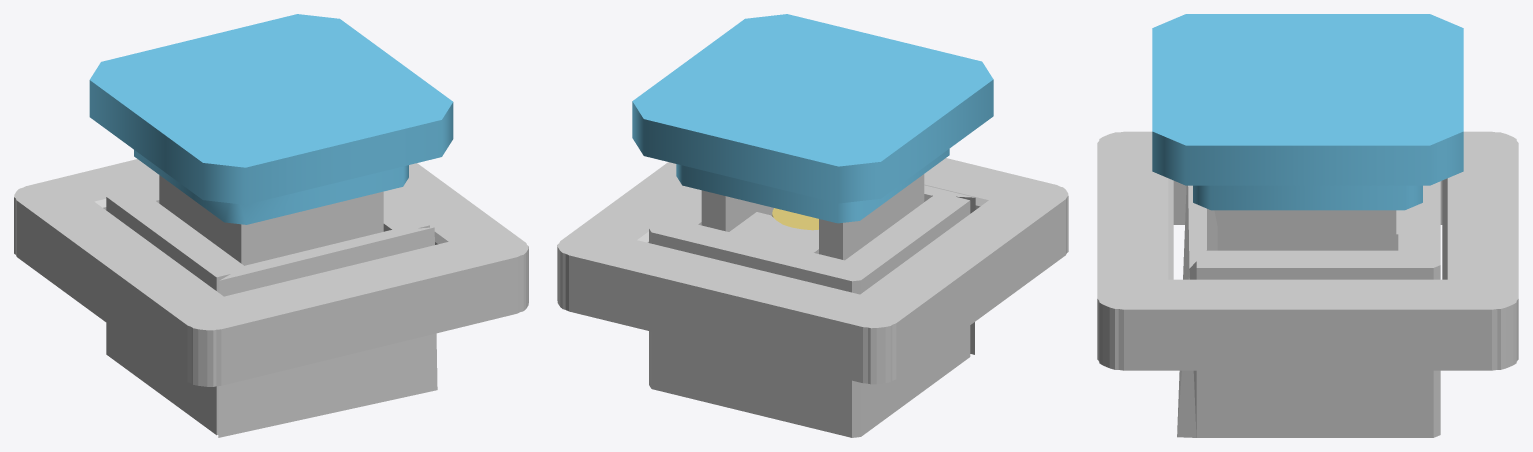
File: floatforce_v5_showcase.glb
3 views of the same model, side by side, from view 1: azimuth 30°, elevation 25°; view 2: azimuth 150°, elevation 25°; view 3: azimuth 270°, elevation 25° (orthographic). The views are drawn at different scales.
Parts seen in each view (by area): view 1: Plate, Keycap, SideWall, U_Housing, Stem; view 2: Plate, Keycap, U_Housing, Stem, Mag_S2_Bridge, SideWall; view 3: Plate, Keycap, U_Housing, Stem, SideWall.
Part boxes in pixels (box(x1,y1,x2,y2)): Plate: box(14, 159, 528, 386); Keycap: box(89, 14, 453, 224); SideWall: box(218, 227, 437, 437); U_Housing: box(106, 181, 429, 435); Stem: box(159, 175, 383, 265); Plate: box(557, 158, 1068, 384); Keycap: box(632, 14, 993, 223); U_Housing: box(649, 190, 970, 437); Stem: box(701, 174, 924, 260); Mag_S2_Bridge: box(772, 208, 818, 230); SideWall: box(924, 185, 975, 354); Plate: box(1097, 131, 1518, 370); Keycap: box(1152, 14, 1463, 210); U_Housing: box(1196, 181, 1440, 437); Stem: box(1219, 210, 1396, 250); SideWall: box(1177, 185, 1217, 437).
Size of the model in its own units: 19.04 by 15.07 by 19.04.
